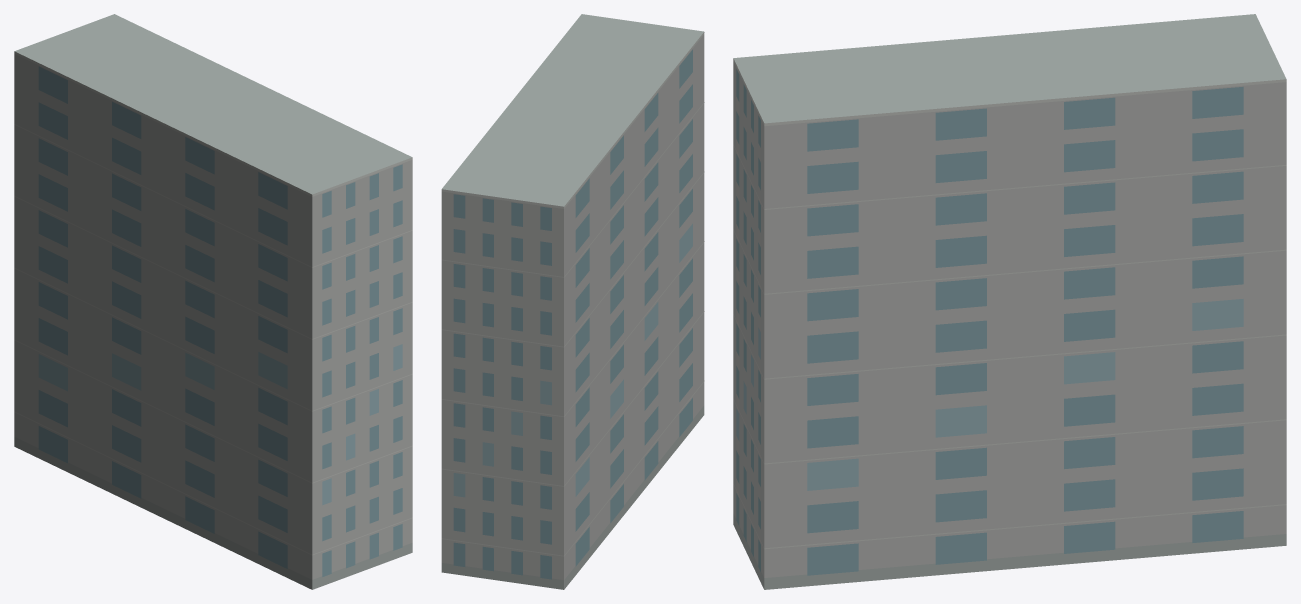
The model's file is residential-ba42269e-88b2-4180-bda9-46c7b3a0579d.glb.
The picture shows the model from 3 angles, left to right: view 1: azimuth 30°, elevation 25°; view 2: azimuth 150°, elevation 25°; view 3: azimuth 270°, elevation 25°; orthographic projection. The views are drawn at different scales.
Parts seen in each view (by area): view 1: residential-ba42269e-88b2-4180-bda9-46c7b3a0579d.tmp; view 2: residential-ba42269e-88b2-4180-bda9-46c7b3a0579d.tmp; view 3: residential-ba42269e-88b2-4180-bda9-46c7b3a0579d.tmp.
Part boxes in pixels (left/top/right/bottom): residential-ba42269e-88b2-4180-bda9-46c7b3a0579d.tmp: left=14, top=14, right=412, bottom=589; residential-ba42269e-88b2-4180-bda9-46c7b3a0579d.tmp: left=441, top=14, right=704, bottom=589; residential-ba42269e-88b2-4180-bda9-46c7b3a0579d.tmp: left=733, top=14, right=1286, bottom=589.
Size of the model in its own units: 20.15 by 40 by 43.02.
